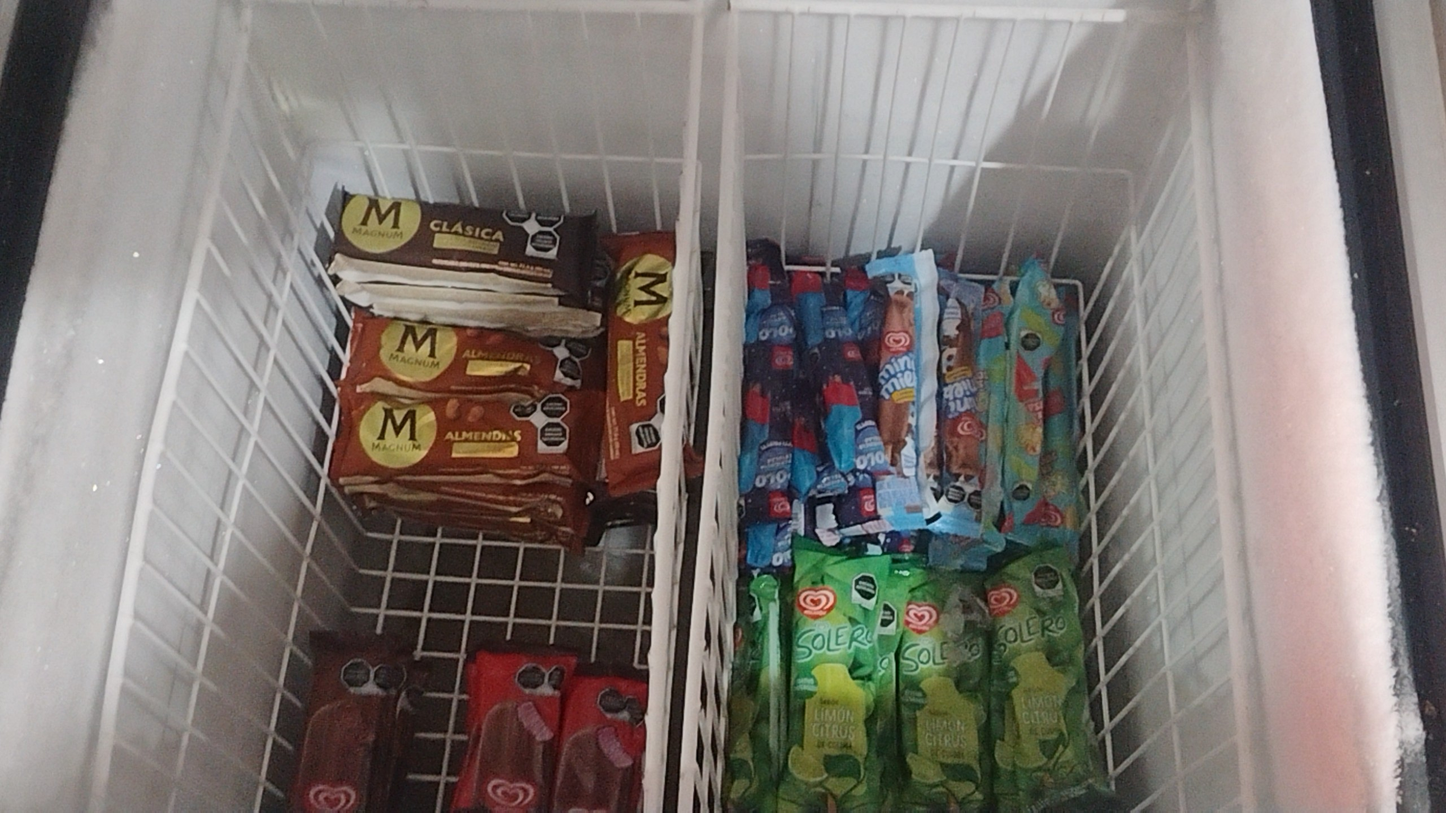rejilla: (1187, 25, 1258, 811), (648, 15, 705, 812), (167, 7, 253, 371), (697, 17, 738, 566), (120, 372, 180, 615), (92, 614, 132, 810), (679, 566, 709, 812)
